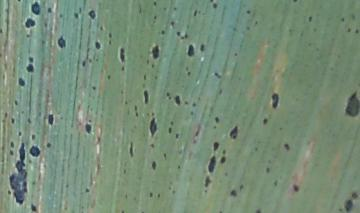tarspot: (8, 141, 30, 205), (345, 87, 360, 119), (148, 42, 162, 62), (148, 115, 159, 140), (54, 34, 69, 51), (116, 45, 128, 66), (21, 16, 38, 29), (141, 86, 152, 106), (227, 123, 239, 141), (207, 155, 219, 173), (81, 121, 95, 136), (269, 89, 279, 110), (29, 1, 43, 16), (288, 181, 302, 195), (29, 144, 42, 159), (46, 112, 57, 129), (171, 93, 183, 108), (127, 140, 136, 160), (185, 43, 196, 59), (210, 139, 222, 153), (343, 198, 355, 212), (86, 8, 98, 21), (16, 74, 27, 88), (201, 176, 212, 189), (82, 184, 93, 197), (228, 187, 240, 198), (149, 158, 158, 172), (92, 40, 103, 51), (197, 42, 207, 54), (209, 1, 221, 11), (243, 7, 255, 17), (218, 154, 228, 166), (23, 64, 36, 73), (282, 141, 291, 154), (214, 113, 222, 127), (43, 141, 54, 151), (165, 125, 175, 136), (27, 204, 39, 213), (157, 29, 169, 38), (89, 82, 98, 94), (260, 115, 268, 128), (8, 115, 18, 125), (173, 30, 184, 39), (306, 14, 315, 25), (24, 54, 36, 62), (46, 4, 54, 16), (78, 59, 88, 68)
